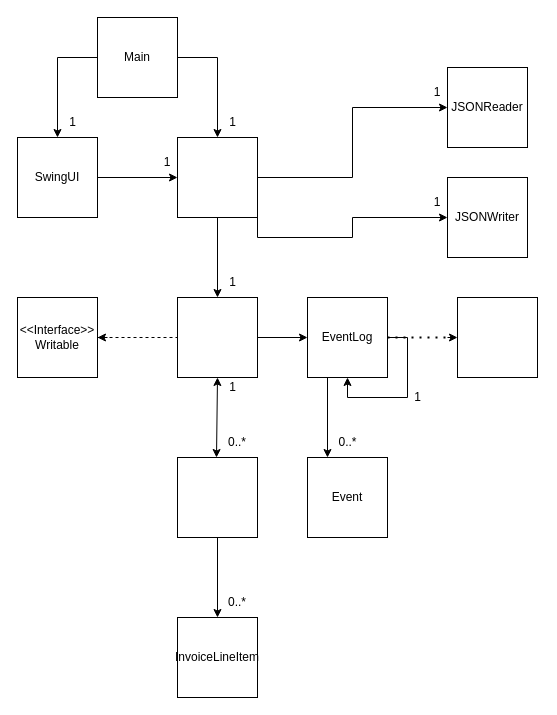
Some shapes in this 557 by 715 pixel diagram are drawn without their labels. Here are the shapes that lost their labels. From the top down, the box of each, then its label:
(176, 136, 258, 218): TerminalUI
(176, 296, 258, 378): App
(456, 296, 538, 378): <<interface>> Iterable<Event>
(176, 456, 258, 538): Invoice
